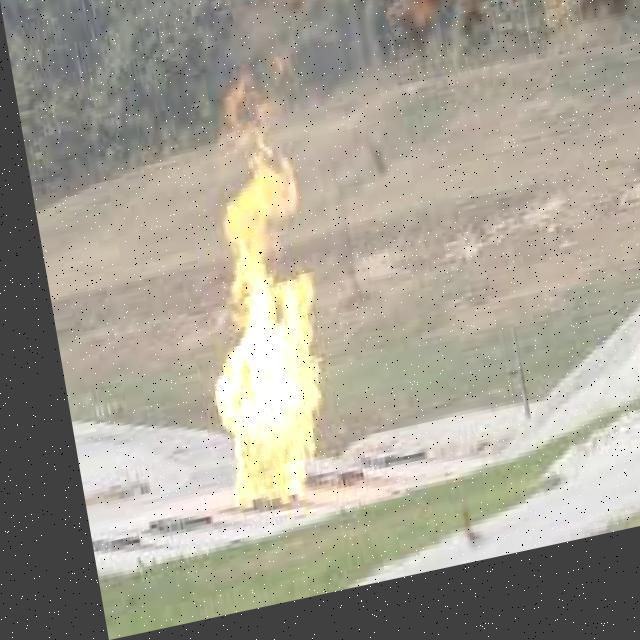Fire: (156, 96, 337, 522)
